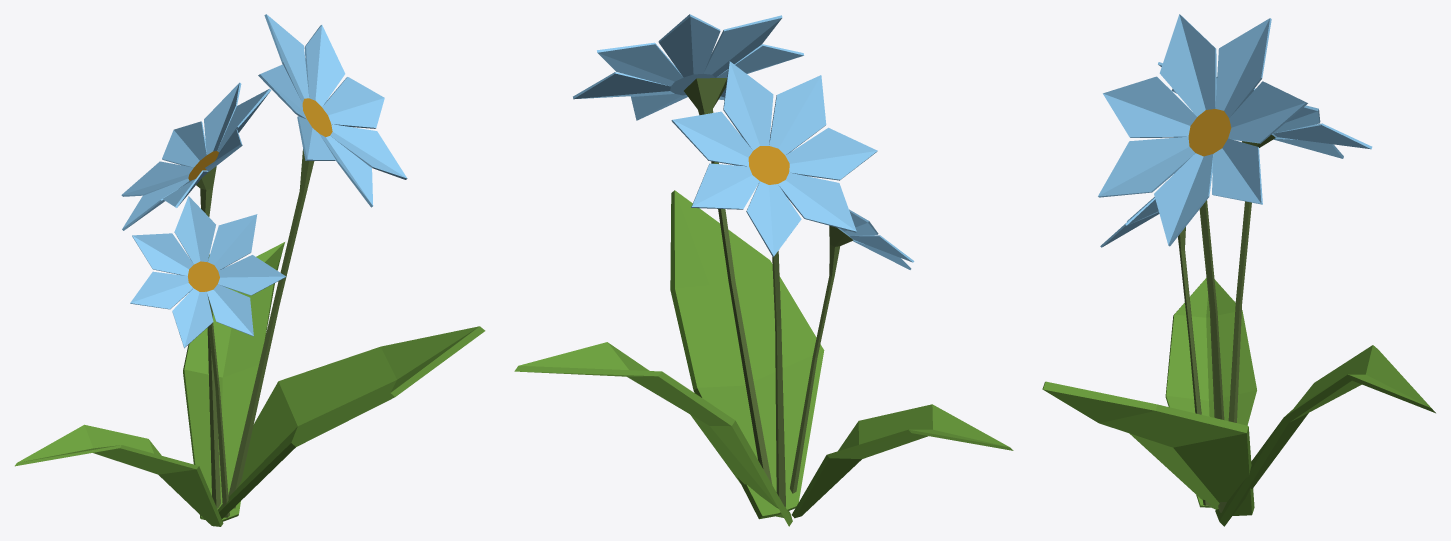
Rendered from Flowers_02 2.glb.
The picture shows the model from 3 angles, left to right: view 1: azimuth 30°, elevation 25°; view 2: azimuth 150°, elevation 25°; view 3: azimuth 270°, elevation 25°; orthographic projection. The views are drawn at different scales.
Parts seen in each view (by area): view 1: Flowers_02_LOD0; view 2: Flowers_02_LOD0; view 3: Flowers_02_LOD0.
Part boxes in pixels (x1,y1,x2,y2): Flowers_02_LOD0: (15, 14, 485, 526); Flowers_02_LOD0: (514, 14, 1013, 526); Flowers_02_LOD0: (1042, 14, 1435, 526).
Size of what is drawn, in the model's own units: 0.3164 by 0.3622 by 0.2413.
1 material, 1 textured.
